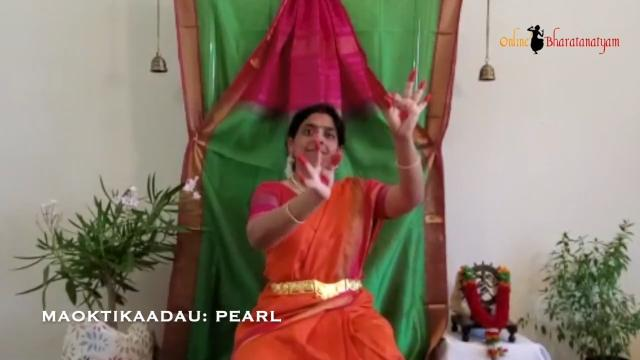hansaasya: (376, 46, 444, 140)
